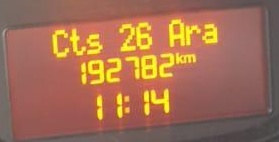1: (90, 91, 104, 122), (112, 89, 123, 120), (78, 59, 88, 87), (140, 87, 149, 116)
2: (117, 21, 136, 52), (104, 55, 121, 82), (158, 51, 174, 77)
4: (149, 87, 169, 114)
6: (136, 19, 153, 50)
7: (124, 54, 140, 79)
8: (141, 53, 158, 80)
9: (86, 57, 103, 84)
X: (51, 27, 69, 59), (167, 17, 185, 46), (69, 26, 86, 55), (86, 31, 103, 54), (184, 22, 201, 44), (201, 21, 217, 44), (123, 93, 131, 116), (183, 53, 195, 63), (174, 51, 183, 64)
